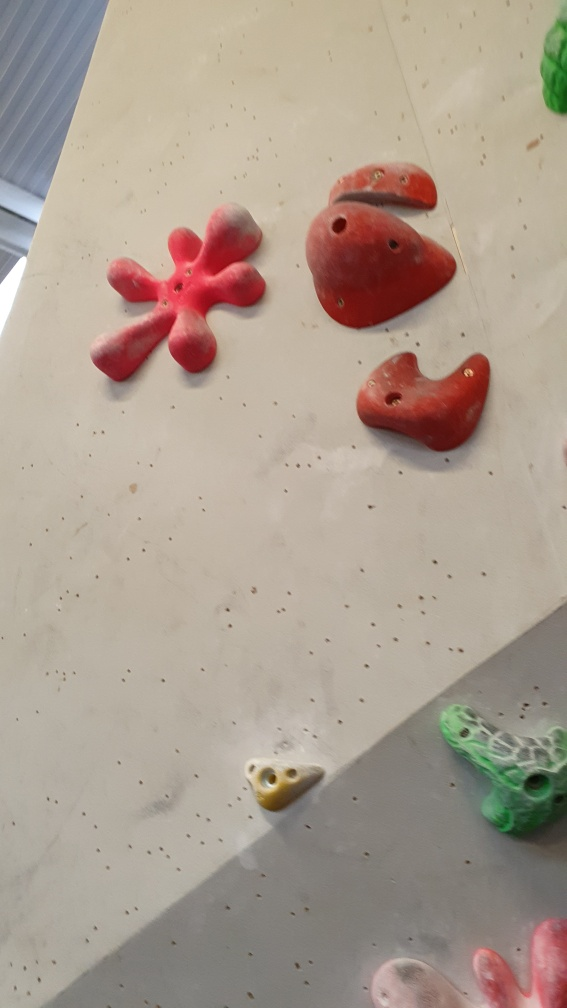Octopus Pinch: (83, 197, 267, 389)
